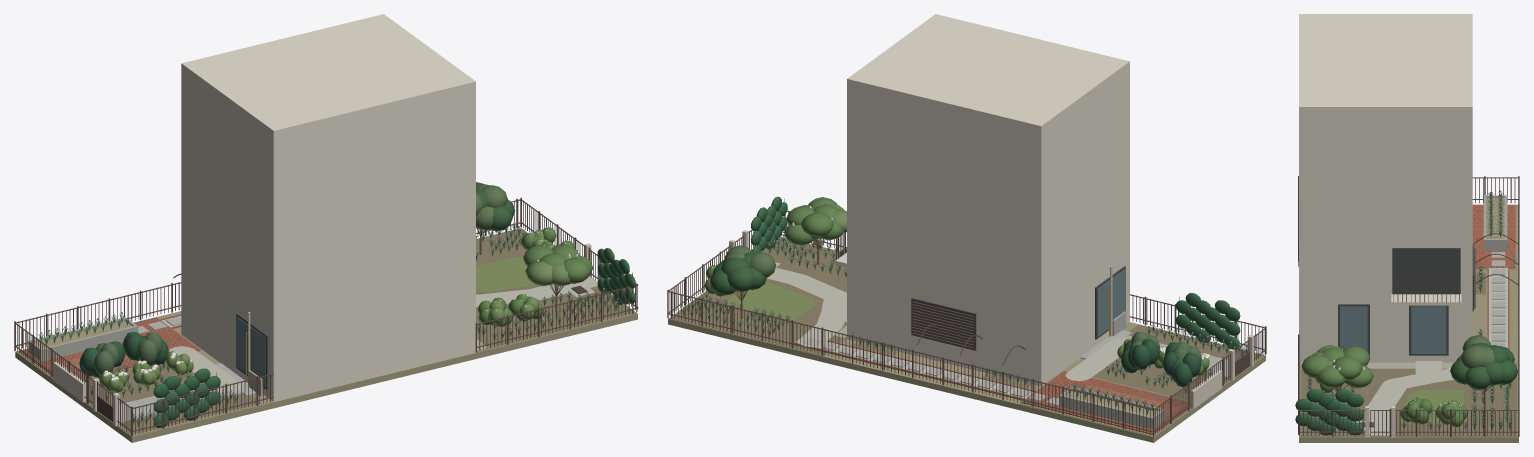
Rendered from design-B-year5.glb.
3 views of the same model, side by side, from view 1: azimuth 30°, elevation 25°; view 2: azimuth 150°, elevation 25°; view 3: azimuth 270°, elevation 25° (orthographic). The views are drawn at different scales.
Parts seen in each view (by area): view 1: Unsurveyed_Building_Mass, Boundary_Fences_Approximate_metal, R0_Flat_Datum, S-west-border, Footprint_Proxy_Unsurveyed, Leaves_N14_Foliage_TJ, Proposed_Planting_Beds_And_Mulch, S-lawn, Leaves_S07_Foliage_TJ, Leaves_S02_Foliage_LI, Visible_planter_Openings_glass, Leaves_N10_Foliage_CA (+18 smaller); view 2: Unsurveyed_Building_Mass, Boundary_Fences_Approximate_metal, R0_Flat_Datum, Proposed_Planting_Beds_And_Mulch, Leaves_N14_Foliage_TJ, Red_Brick_Joints_Indicative_brick, Footprint_Proxy_Unsurveyed, Leaves_N10_Foliage_CA, S-east-border, Leaves_S02_Foliage_LI, S-lawn, Wall_Services_Visible_Proxies_dark (+21 smaller); view 3: Unsurveyed_Building_Mass, Visible_bare_Openings_dark, Boundary_Fences_Approximate_metal, R0_Flat_Datum, Visible_bare_Openings_glass, Proposed_Planting_Beds_And_Mulch, S-east-border, Leaves_S07_Foliage_TJ, Leaves_S02_Foliage_LI, S-main_New_Warm_Grey_Paving, Leaves_S01_Foliage_OS, Red_Brick_Joints_Indicative_brick (+19 smaller).
Boxes of the visible parts, box(x1,y1,x2,y2) form: Unsurveyed_Building_Mass: box(181, 14, 475, 393); Boundary_Fences_Approximate_metal: box(14, 197, 638, 436); R0_Flat_Datum: box(15, 232, 637, 442); S-west-border: box(477, 292, 631, 345); Footprint_Proxy_Unsurveyed: box(181, 326, 475, 401); Leaves_N14_Foliage_TJ: box(153, 368, 220, 427); Proposed_Planting_Beds_And_Mulch: box(83, 228, 635, 434); S-lawn: box(476, 256, 536, 291); Leaves_S07_Foliage_TJ: box(597, 248, 635, 305); Leaves_S02_Foliage_LI: box(523, 244, 592, 283); Visible_planter_Openings_glass: box(237, 317, 265, 387); Leaves_N10_Foliage_CA: box(79, 332, 168, 377); Unsurveyed_Building_Mass: box(847, 14, 1129, 378); Boundary_Fences_Approximate_metal: box(667, 210, 1266, 436); R0_Flat_Datum: box(668, 291, 1265, 442); Proposed_Planting_Beds_And_Mulch: box(672, 237, 1261, 400); Leaves_N14_Foliage_TJ: box(1175, 293, 1240, 349); Red_Brick_Joints_Indicative_brick: box(1021, 371, 1189, 433); Footprint_Proxy_Unsurveyed: box(847, 313, 1129, 386); Leaves_N10_Foliage_CA: box(1121, 338, 1200, 387); S-east-border: box(675, 291, 789, 340); Leaves_S02_Foliage_LI: box(784, 197, 843, 245); S-lawn: box(728, 281, 814, 320); Wall_Services_Visible_Proxies_dark: box(911, 298, 976, 350); Unsurveyed_Building_Mass: box(1299, 14, 1472, 354); Visible_bare_Openings_dark: box(1338, 248, 1460, 355); Boundary_Fences_Approximate_metal: box(1298, 176, 1519, 436); R0_Flat_Datum: box(1299, 269, 1518, 442); Visible_bare_Openings_glass: box(1340, 306, 1446, 353); Proposed_Planting_Beds_And_Mulch: box(1300, 362, 1517, 435); S-east-border: box(1398, 388, 1514, 434); Leaves_S07_Foliage_TJ: box(1295, 389, 1363, 435); Leaves_S02_Foliage_LI: box(1301, 346, 1373, 388); S-main_New_Warm_Grey_Paving: box(1368, 361, 1441, 435); Leaves_S01_Foliage_OS: box(1450, 342, 1517, 389); Red_Brick_Joints_Indicative_brick: box(1473, 204, 1515, 267).
Size of what is drawn, in the model's own units: 25.22 by 13.1 by 10.2.
